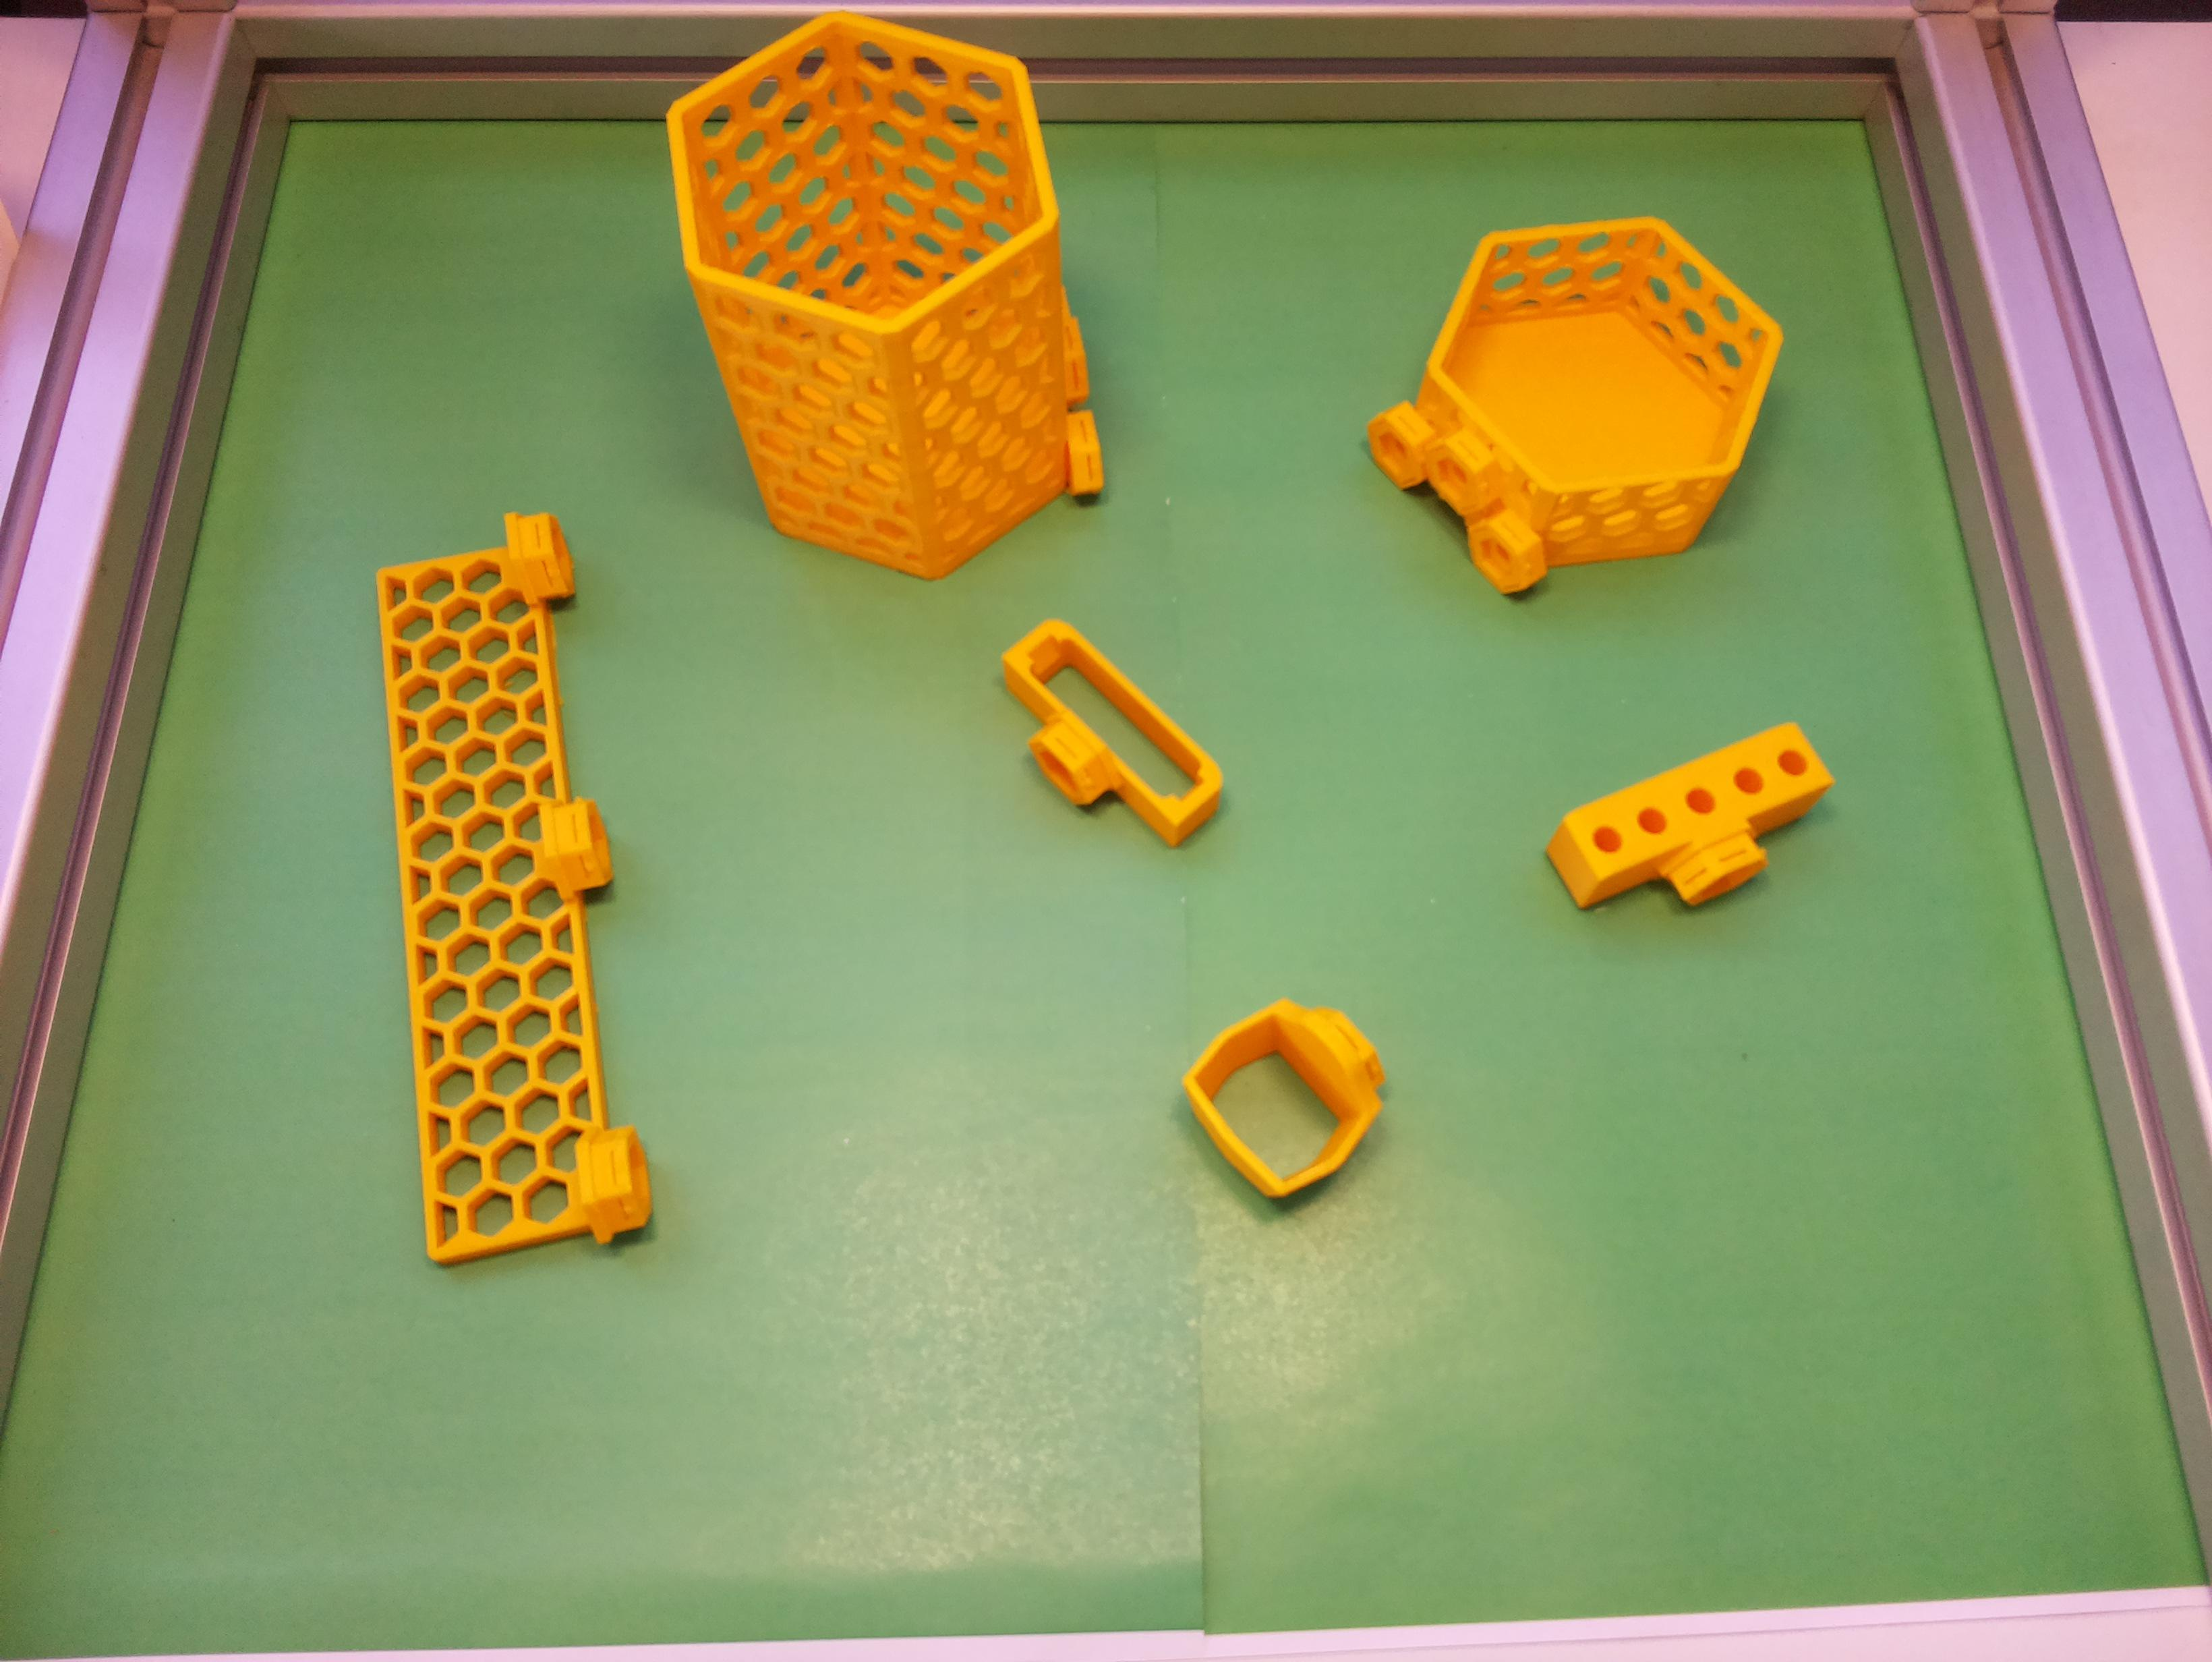bit_holder: (1535, 705, 1856, 953)
bottle_holder: (1330, 145, 1828, 663)
cutter_holder: (964, 608, 1240, 878)
scissor_holder: (1163, 964, 1419, 1220)
tool_holder: (342, 508, 655, 1266)
